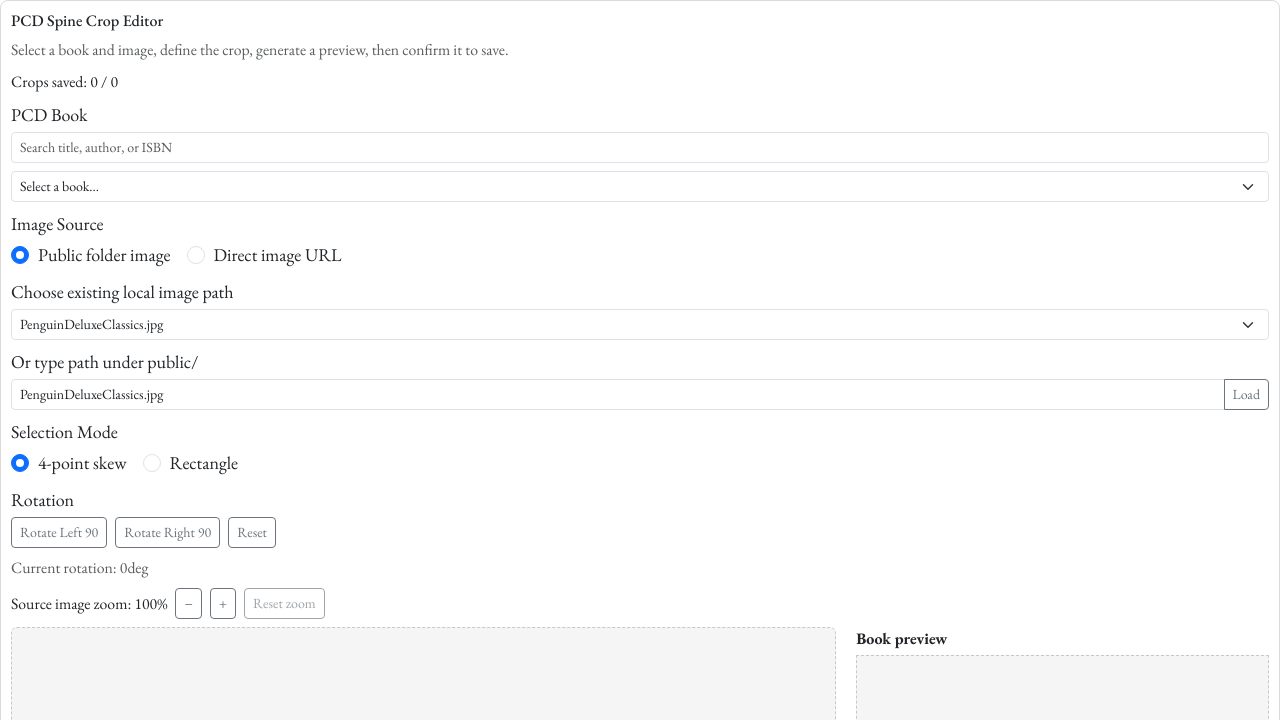
Test: SpineCropEditor save feedback › provides source image zoom controls
Click the button named "Zoom source image in" at (223, 604), box [210, 588, 236, 619]
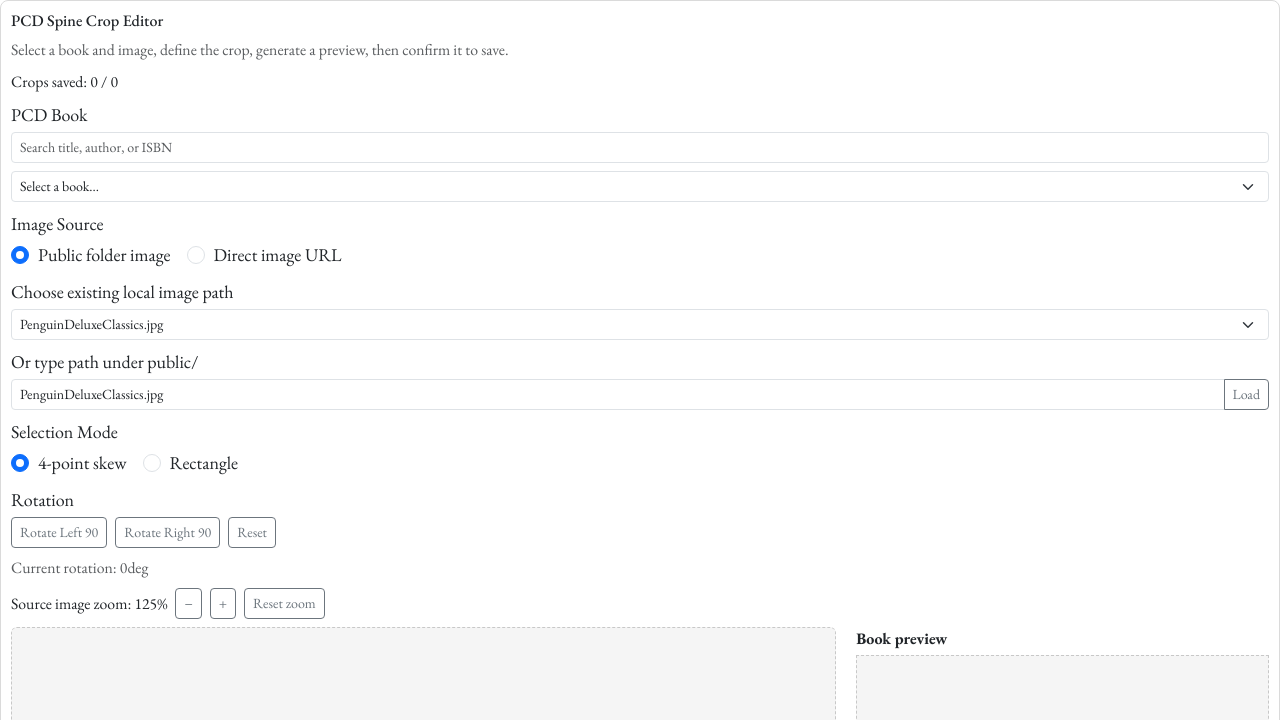
Expected: the text "Source image zoom: 125%" is shown, [11, 592, 167, 615]
Click the button named "Zoom source image out" at (189, 604), box [175, 588, 202, 619]
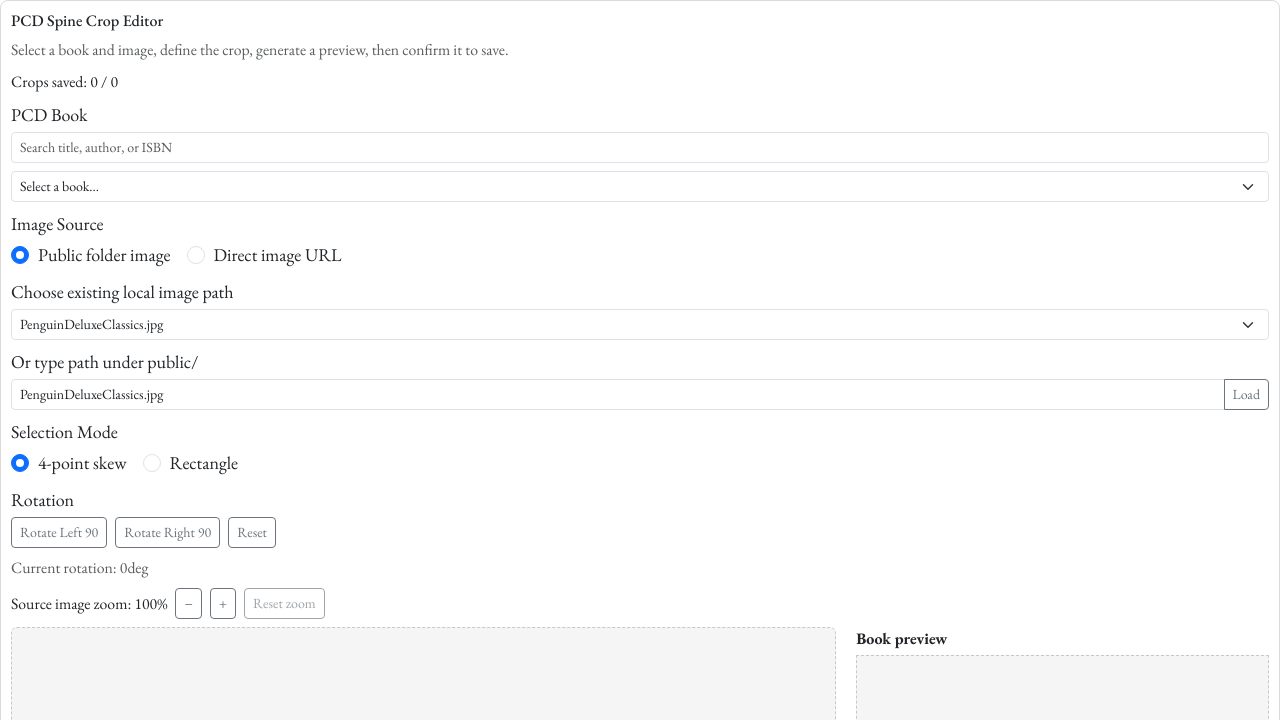
Expected: the text "Source image zoom: 100%" is shown, [11, 592, 167, 615]
